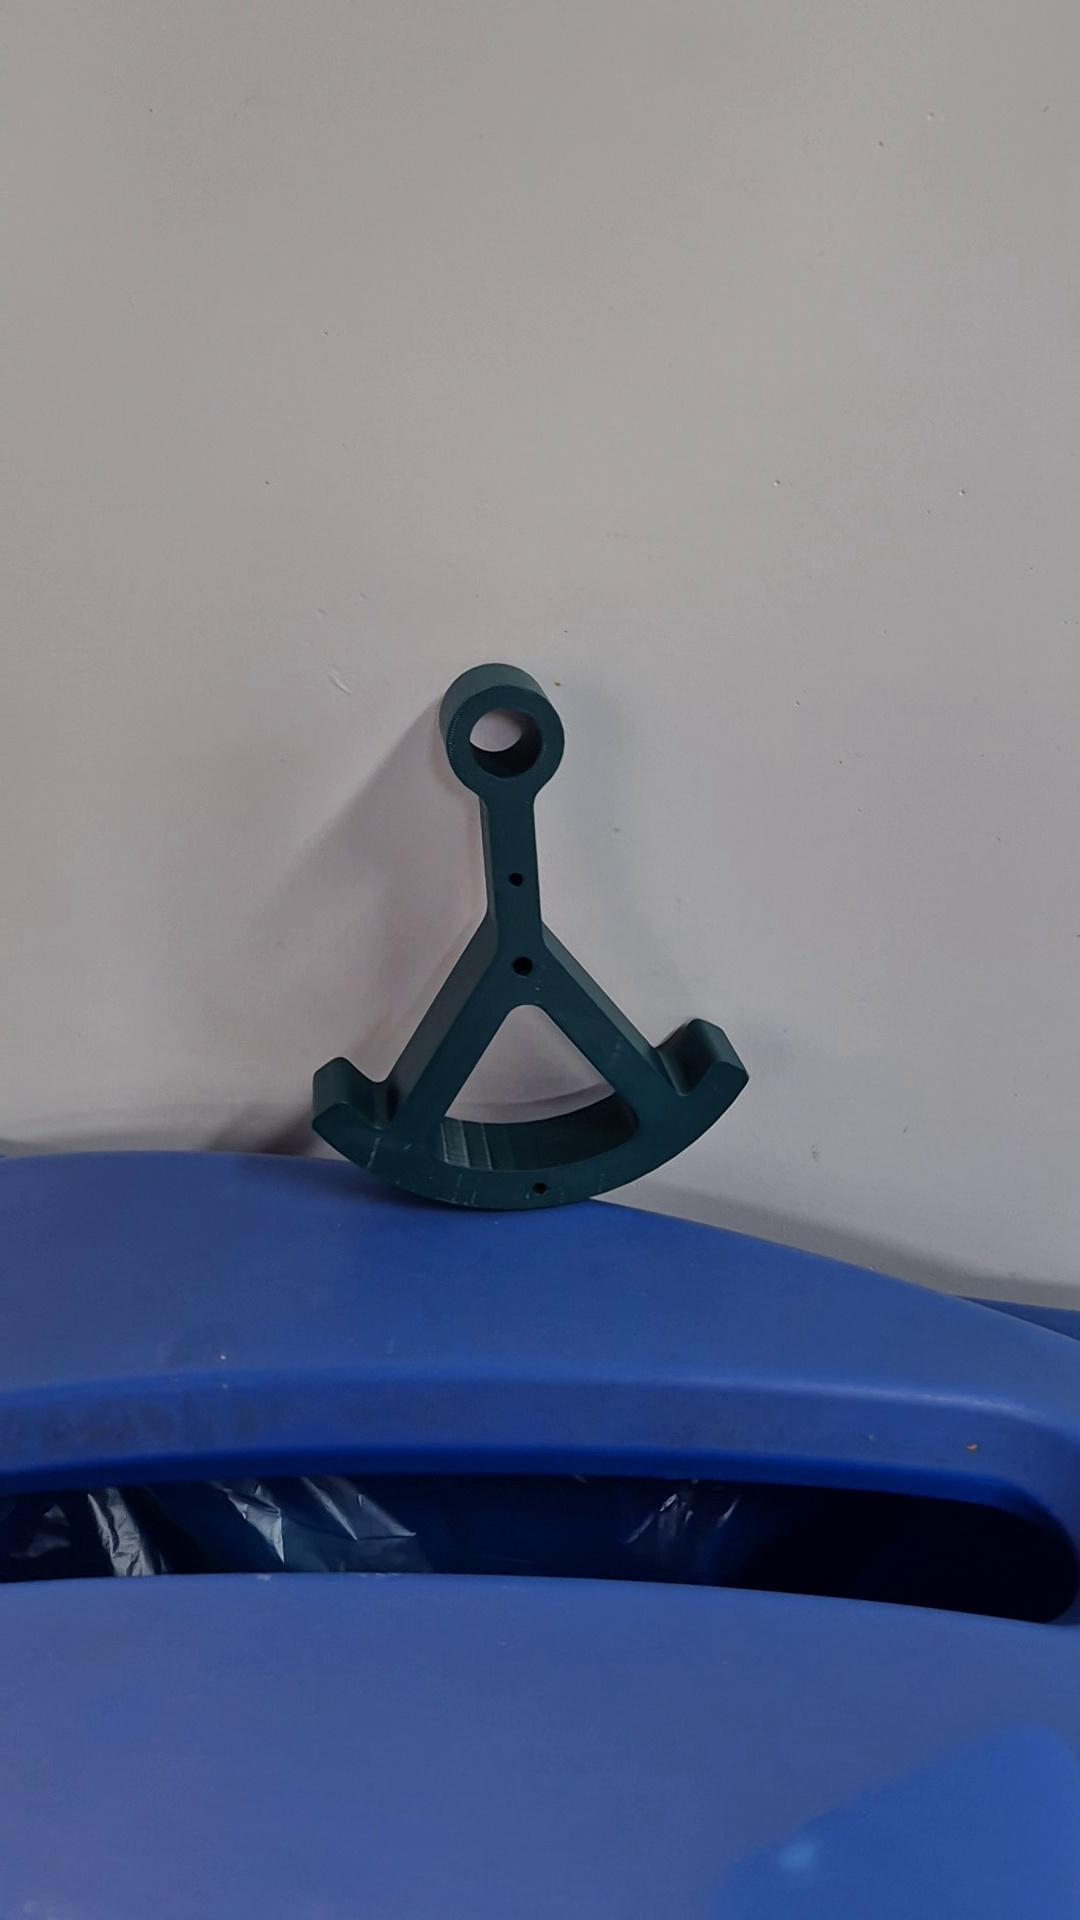Paddles: (307, 658, 754, 1216)
